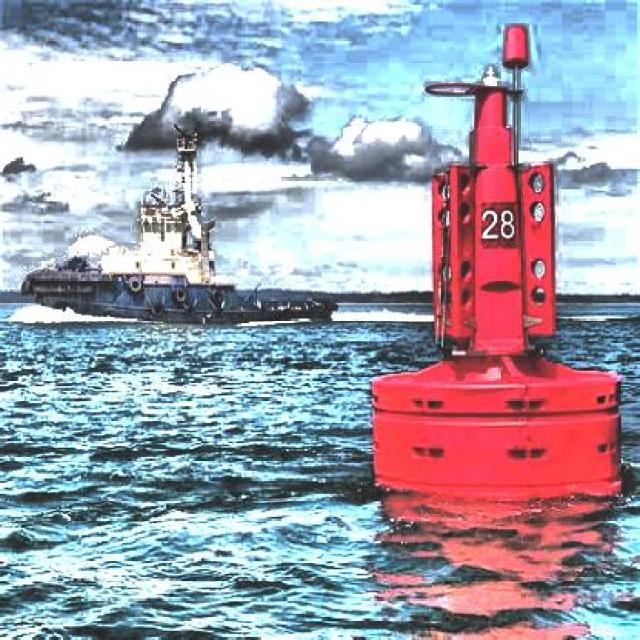Red Buoy: (374, 91, 620, 493)
